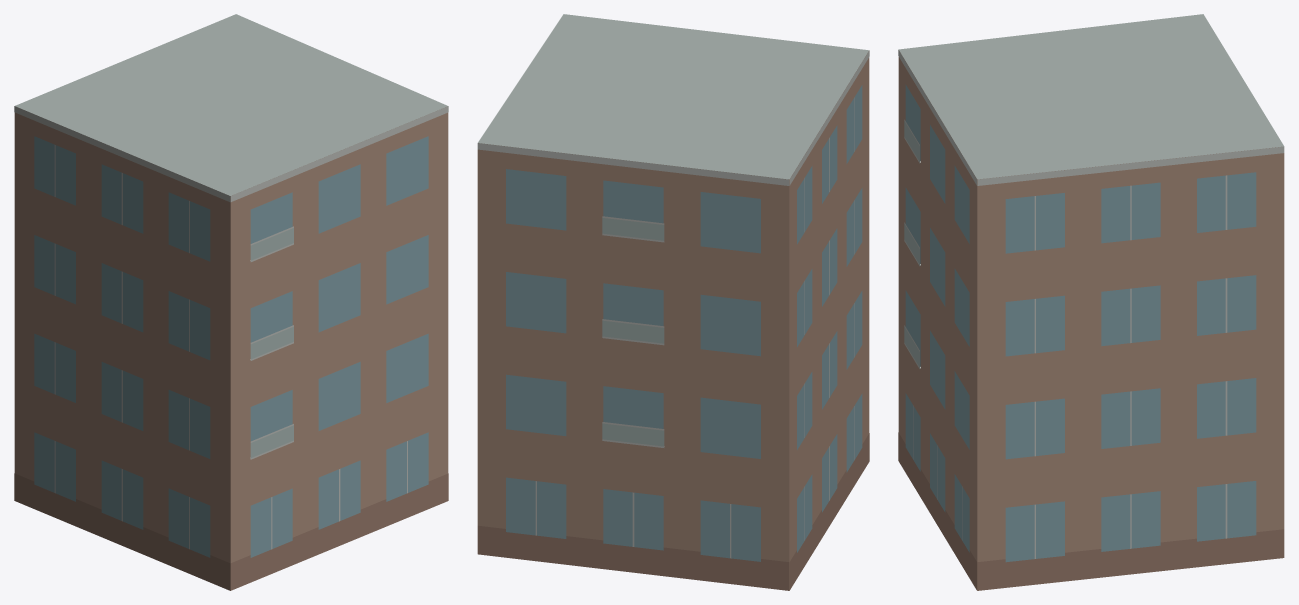
File: survey-upis-32780645.glb
3 views of the same model, side by side, from view 1: azimuth 30°, elevation 25°; view 2: azimuth 150°, elevation 25°; view 3: azimuth 270°, elevation 25° (orthographic). The views are drawn at different scales.
Visible parts, largest first — view 1: survey-upis-32780645.tmp; view 2: survey-upis-32780645.tmp; view 3: survey-upis-32780645.tmp.
Part boxes in pixels (x1,y1,x2,y2): survey-upis-32780645.tmp: [14, 14, 448, 590]; survey-upis-32780645.tmp: [477, 14, 869, 590]; survey-upis-32780645.tmp: [898, 14, 1284, 590].
Bounding box in the file's own units: 13.12 × 15.2 × 12.93.
